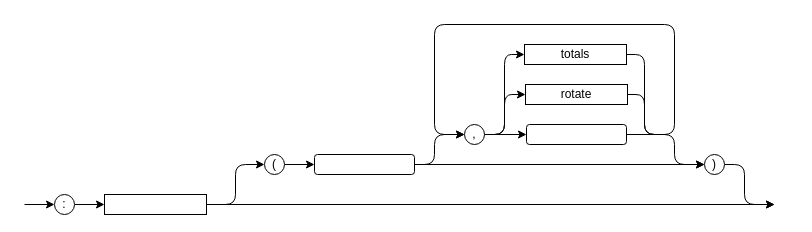
The diagram is 812 pixels wide and 232 high, and some of its shapes have lost their labels. The shapes that lost their labels are listed below. From the top down, each one's centre as x and y in pixels, then its label:
point 576,134: nn
point 364,164: cell mapper
point 155,204: grid
